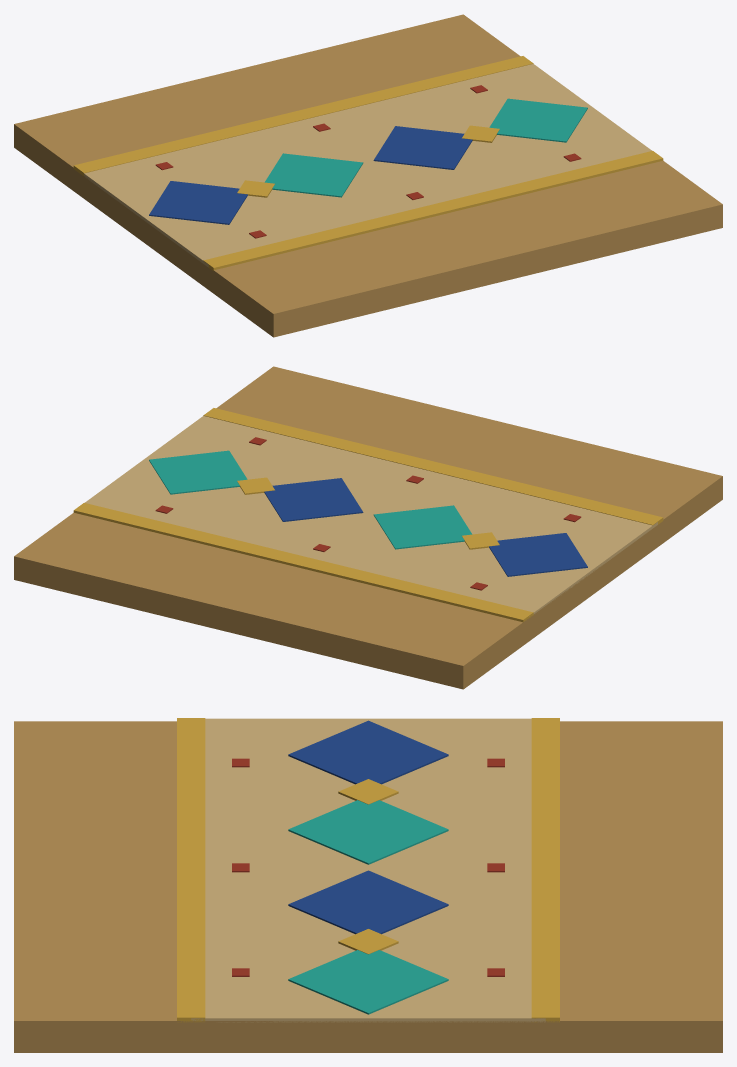
File: kit-egypt-floor-2.glb
3 renders of one model, top to bottom at view 1: azimuth 30°, elevation 25°; view 2: azimuth 150°, elevation 25°; view 3: azimuth 270°, elevation 25°, orthographic. The views are drawn at different scales.
Visible parts, largest first — view 1: kit-egypt-floor-2; view 2: kit-egypt-floor-2; view 3: kit-egypt-floor-2.
Boxes of the visible parts, x1=… form: kit-egypt-floor-2: x1=14, y1=14, x2=722, y2=337; kit-egypt-floor-2: x1=14, y1=366, x2=722, y2=689; kit-egypt-floor-2: x1=14, y1=718, x2=722, y2=1052.
Size of the model in its own units: 2 by 0.114 by 2.
